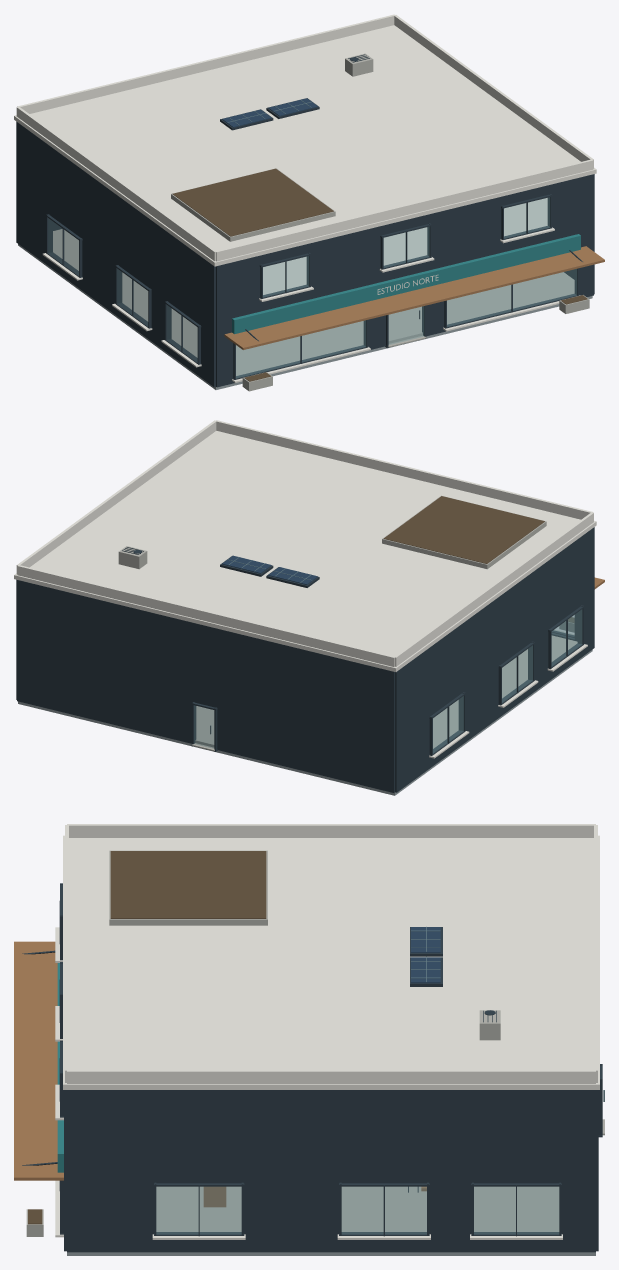
The model's file is Shop_9.fbx.
The picture shows the model from 3 angles, top to bottom: view 1: azimuth 30°, elevation 25°; view 2: azimuth 150°, elevation 25°; view 3: azimuth 270°, elevation 25°; orthographic projection. The views are drawn at different scales.
Visible parts, largest first — view 1: Shop_9; view 2: Shop_9; view 3: Shop_9.
Boxes of the visible parts, x1=… form: Shop_9: x1=14, y1=14, x2=604, y2=391; Shop_9: x1=14, y1=420, x2=604, y2=795; Shop_9: x1=14, y1=824, x2=604, y2=1255.
Bounding box in the file's own units: 22.87 × 7.97 × 22.35.
